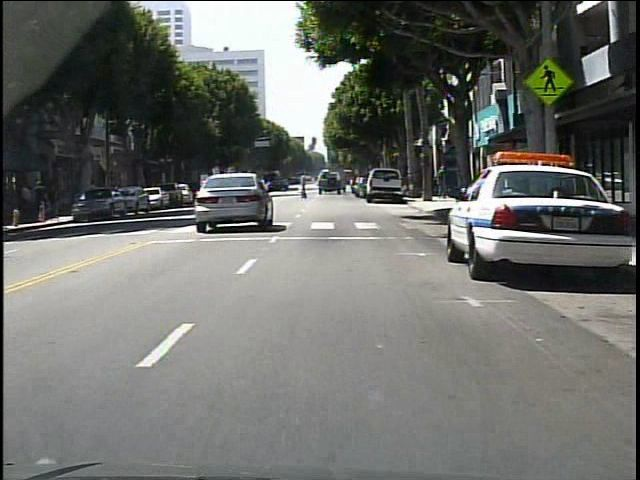person: (36, 180, 52, 222), (436, 164, 452, 203), (297, 169, 313, 203), (21, 183, 34, 221)
